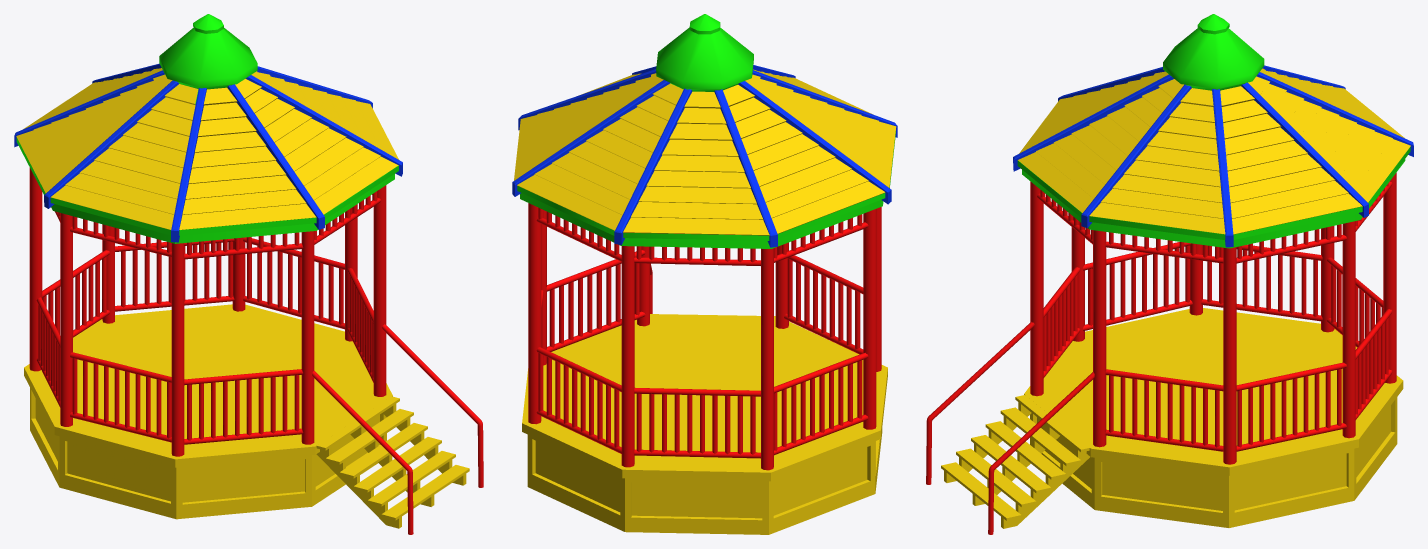
File: ART-MOD-A-GAZEBO.FBX
3 renders of one model, left to right at view 1: azimuth 30°, elevation 25°; view 2: azimuth 150°, elevation 25°; view 3: azimuth 270°, elevation 25°, orthographic. The views are drawn at different scales.
Parts seen in each view (by area): view 1: Cylinder003; view 2: Cylinder003; view 3: Cylinder003.
Boxes of the visible parts, x1=… form: Cylinder003: x1=14, y1=14, x2=483, y2=534; Cylinder003: x1=512, y1=14, x2=897, y2=534; Cylinder003: x1=926, y1=14, x2=1413, y2=534.
Bounding box in the file's own units: 267 × 324 × 326.
